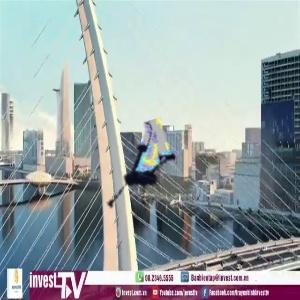drone: (86, 128, 187, 229)
